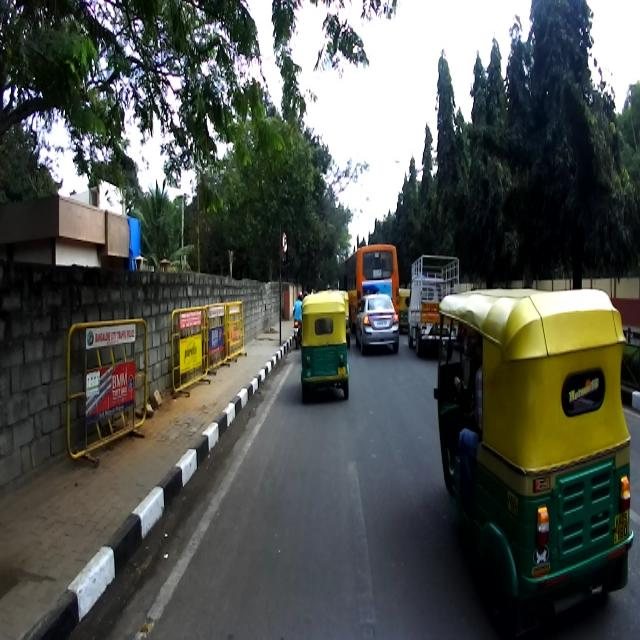Car_Maruti-Suzuki: (354, 292, 402, 356)
autorickshaw: (432, 287, 634, 637), (300, 292, 348, 404)
